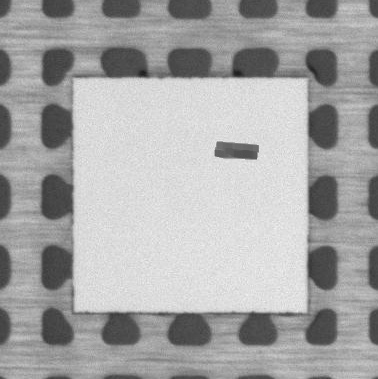DIE_INK: (213, 138, 259, 162)
